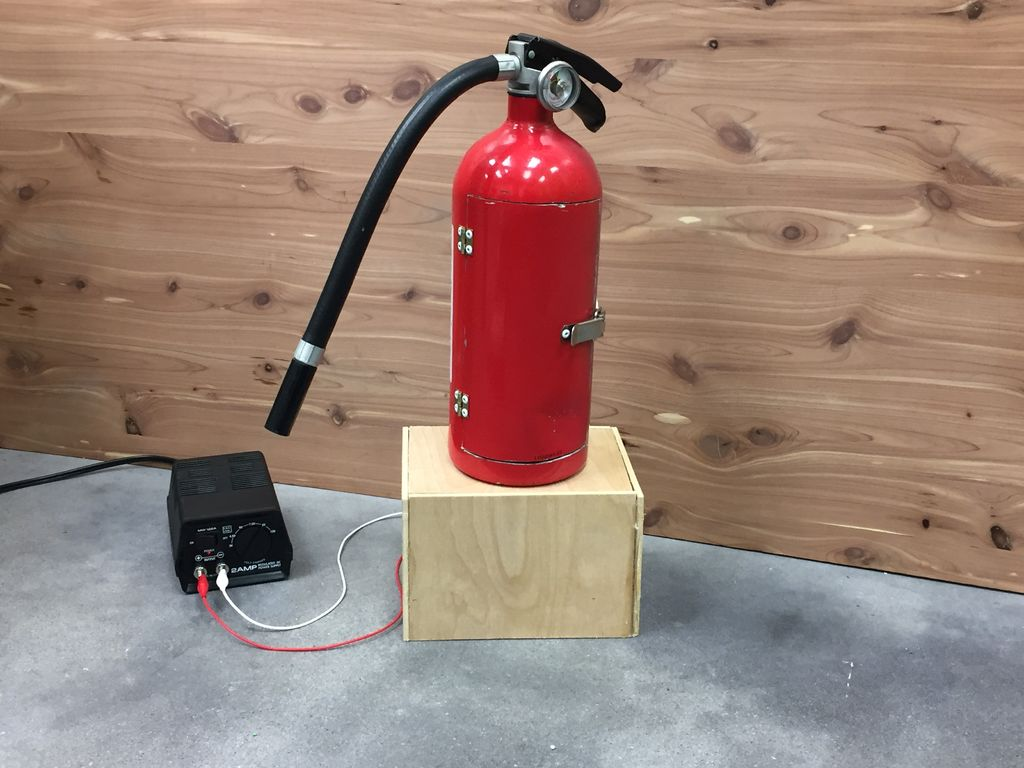fire: (265, 33, 623, 488)
